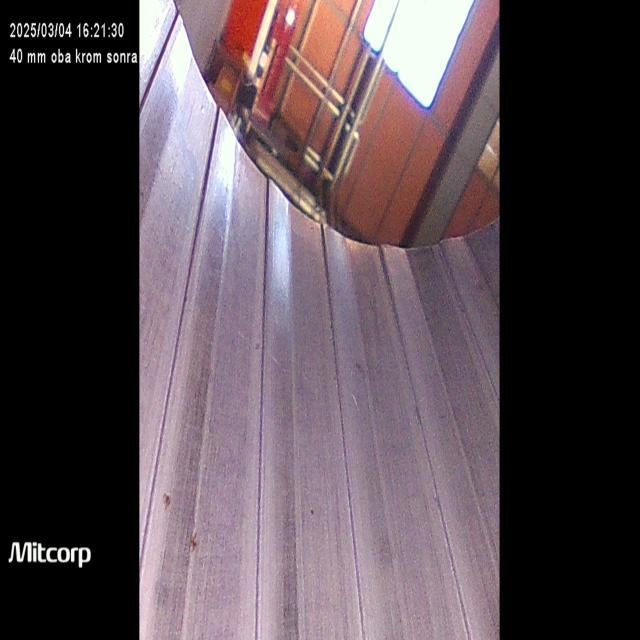hata_4.2: (155, 478, 181, 528), (185, 523, 205, 572), (253, 336, 275, 370), (470, 274, 491, 307), (350, 350, 368, 388), (411, 401, 431, 434), (304, 503, 324, 531), (220, 174, 236, 202)
